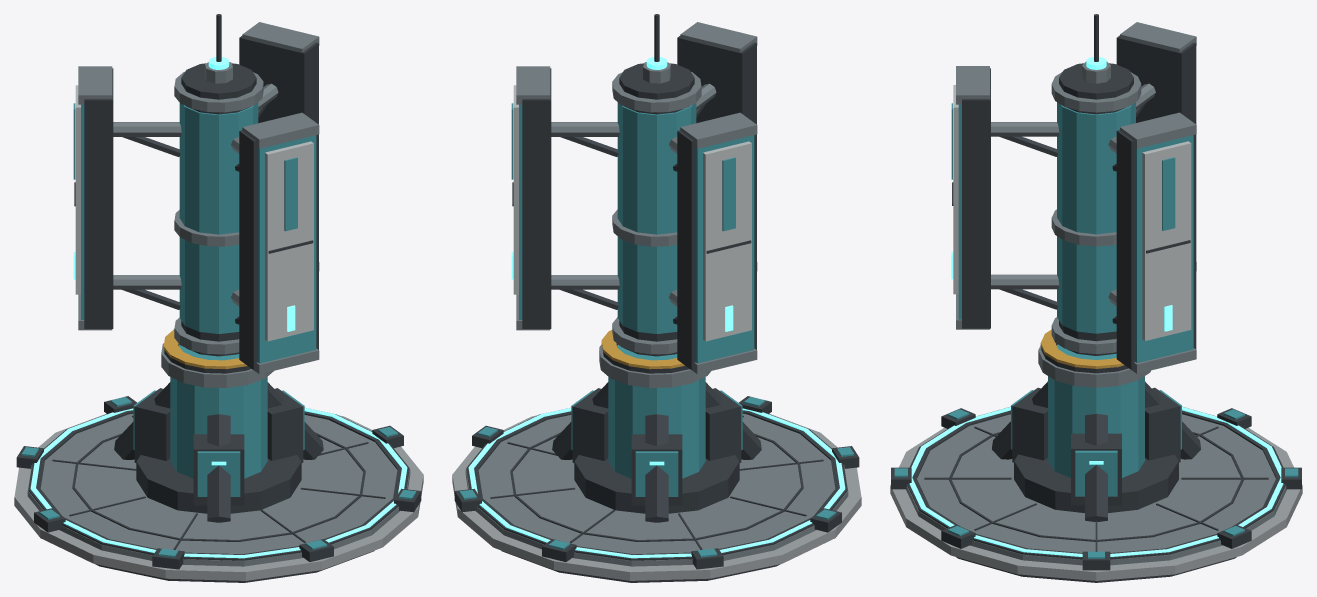
Rendered from relay-tower-far.glb.
The picture shows the model from 3 angles, left to right: view 1: azimuth 30°, elevation 25°; view 2: azimuth 150°, elevation 25°; view 3: azimuth 270°, elevation 25°; orthographic projection.
Visible parts, largest first — view 1: modelRoot:neutral-metal, modelRoot:structure, antennaYaw:structure, antennaYaw:team-primary, antennaYaw:neutral-metal, modelRoot:team-primary, antennaYaw:armor, modelRoot:foundation-concrete, modelRoot:team-emissive, modelRoot:warning, antennaYaw:team-emissive; view 2: modelRoot:neutral-metal, modelRoot:structure, antennaYaw:structure, antennaYaw:team-primary, antennaYaw:neutral-metal, modelRoot:team-primary, antennaYaw:armor, modelRoot:foundation-concrete, modelRoot:team-emissive, modelRoot:warning, antennaYaw:team-emissive; view 3: modelRoot:neutral-metal, modelRoot:structure, antennaYaw:structure, antennaYaw:team-primary, antennaYaw:neutral-metal, antennaYaw:armor, modelRoot:team-primary, modelRoot:foundation-concrete, modelRoot:team-emissive, modelRoot:warning, antennaYaw:team-emissive.
Part boxes in pixels (bbox=[...]): modelRoot:neutral-metal: bbox=[27, 343, 410, 566]; modelRoot:structure: bbox=[16, 344, 421, 582]; antennaYaw:structure: bbox=[74, 14, 318, 369]; antennaYaw:team-primary: bbox=[73, 102, 316, 363]; antennaYaw:neutral-metal: bbox=[78, 22, 319, 374]; modelRoot:team-primary: bbox=[21, 344, 416, 557]; antennaYaw:armor: bbox=[75, 85, 313, 341]; modelRoot:foundation-concrete: bbox=[14, 413, 423, 580]; modelRoot:team-emissive: bbox=[30, 408, 407, 558]; modelRoot:warning: bbox=[163, 329, 247, 369]; antennaYaw:team-emissive: bbox=[73, 57, 295, 331]; modelRoot:neutral-metal: bbox=[465, 344, 848, 566]; modelRoot:structure: bbox=[454, 343, 859, 582]; antennaYaw:structure: bbox=[512, 14, 756, 369]; antennaYaw:team-primary: bbox=[511, 102, 754, 363]; antennaYaw:neutral-metal: bbox=[516, 22, 757, 374]; modelRoot:team-primary: bbox=[459, 344, 854, 557]; antennaYaw:armor: bbox=[513, 85, 751, 341]; modelRoot:foundation-concrete: bbox=[452, 413, 861, 580]; modelRoot:team-emissive: bbox=[468, 408, 845, 558]; modelRoot:warning: bbox=[601, 330, 684, 369]; antennaYaw:team-emissive: bbox=[511, 57, 733, 331]; modelRoot:neutral-metal: bbox=[906, 345, 1286, 565]; modelRoot:structure: bbox=[891, 343, 1301, 582]; antennaYaw:structure: bbox=[952, 14, 1196, 369]; antennaYaw:team-primary: bbox=[951, 102, 1193, 362]; antennaYaw:neutral-metal: bbox=[956, 22, 1196, 373]; antennaYaw:armor: bbox=[953, 85, 1191, 340]; modelRoot:team-primary: bbox=[894, 344, 1298, 558]; modelRoot:foundation-concrete: bbox=[890, 427, 1302, 580]; modelRoot:team-emissive: bbox=[909, 407, 1283, 556]; modelRoot:warning: bbox=[1040, 329, 1124, 368]; antennaYaw:team-emissive: bbox=[951, 57, 1172, 331].
Bounding box in the file's own units: 3.4 × 4.42 × 3.4.
